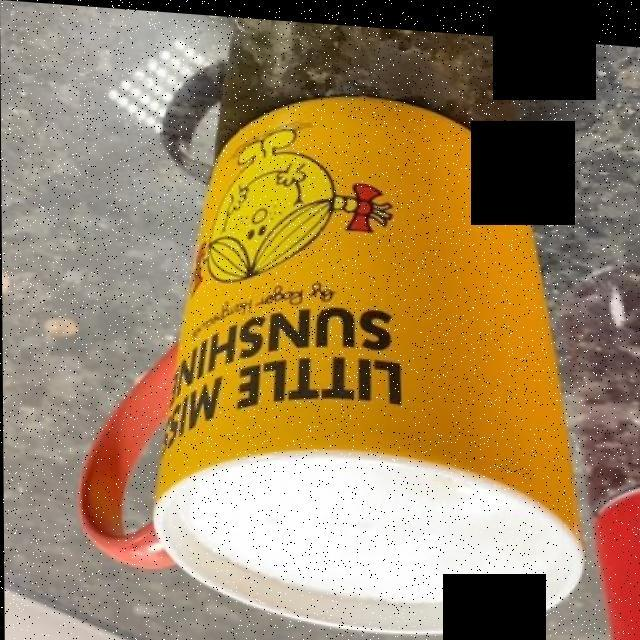coffee: (175, 454, 565, 600)
